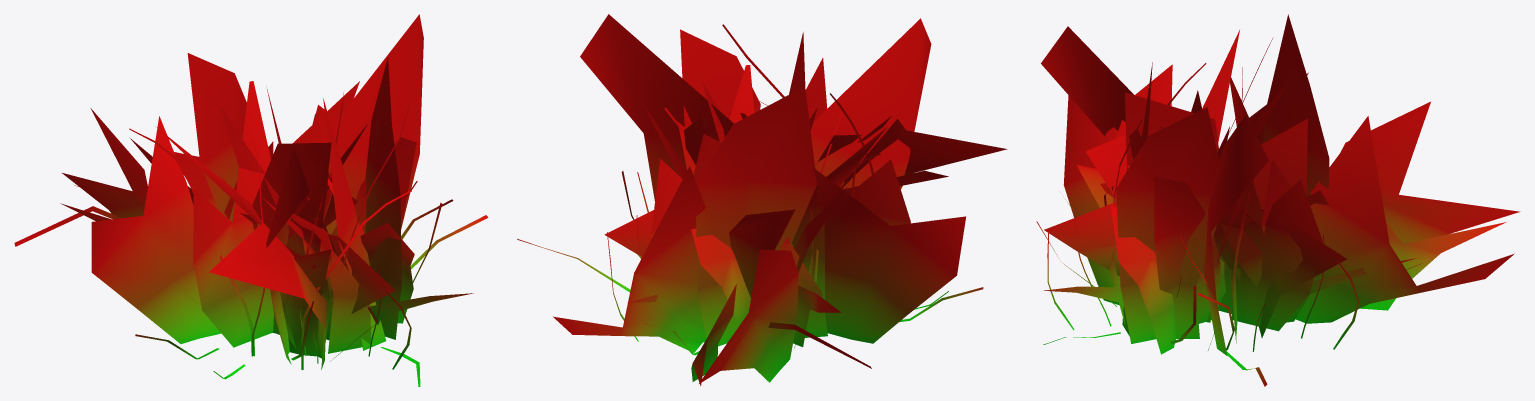
Rendered from Tundra Grass_LOD4_Var28_wk2oaeyqx.fbx.
The picture shows the model from 3 angles, left to right: view 1: azimuth 30°, elevation 25°; view 2: azimuth 150°, elevation 25°; view 3: azimuth 270°, elevation 25°; orthographic projection. The views are drawn at different scales.
Visible parts, largest first — view 1: _kknf_Var28_LOD4; view 2: _kknf_Var28_LOD4; view 3: _kknf_Var28_LOD4.
Boxes of the visible parts, x1,y1,x2,y2 form: _kknf_Var28_LOD4: [14, 14, 488, 386]; _kknf_Var28_LOD4: [517, 14, 1007, 386]; _kknf_Var28_LOD4: [1036, 14, 1520, 386].
Size of the model in its own units: 31.03 by 19.69 by 30.97.
